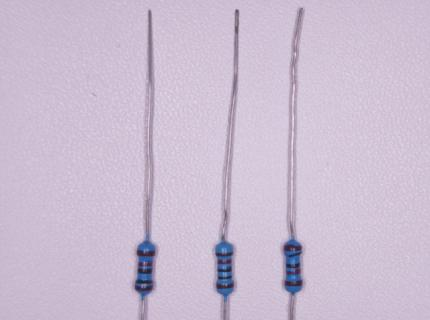Black band: (136, 279, 153, 284), (138, 268, 152, 274), (286, 263, 300, 268), (218, 267, 232, 272), (218, 276, 232, 280), (286, 253, 300, 257)
Brown band: (137, 250, 155, 257), (284, 245, 302, 252), (285, 280, 303, 287), (135, 285, 153, 291), (217, 283, 234, 289), (216, 252, 233, 257)
Red band: (286, 269, 300, 275), (217, 259, 232, 264), (138, 262, 153, 266)
